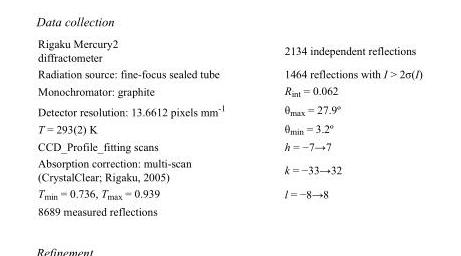table: (37, 36, 421, 217)
table column: (37, 36, 254, 217), (254, 36, 421, 217)
table row: (37, 154, 421, 184), (37, 36, 421, 65), (37, 81, 421, 100), (37, 100, 421, 119), (37, 119, 421, 137), (37, 184, 421, 202), (37, 137, 421, 154), (37, 65, 421, 81), (37, 202, 421, 217)
